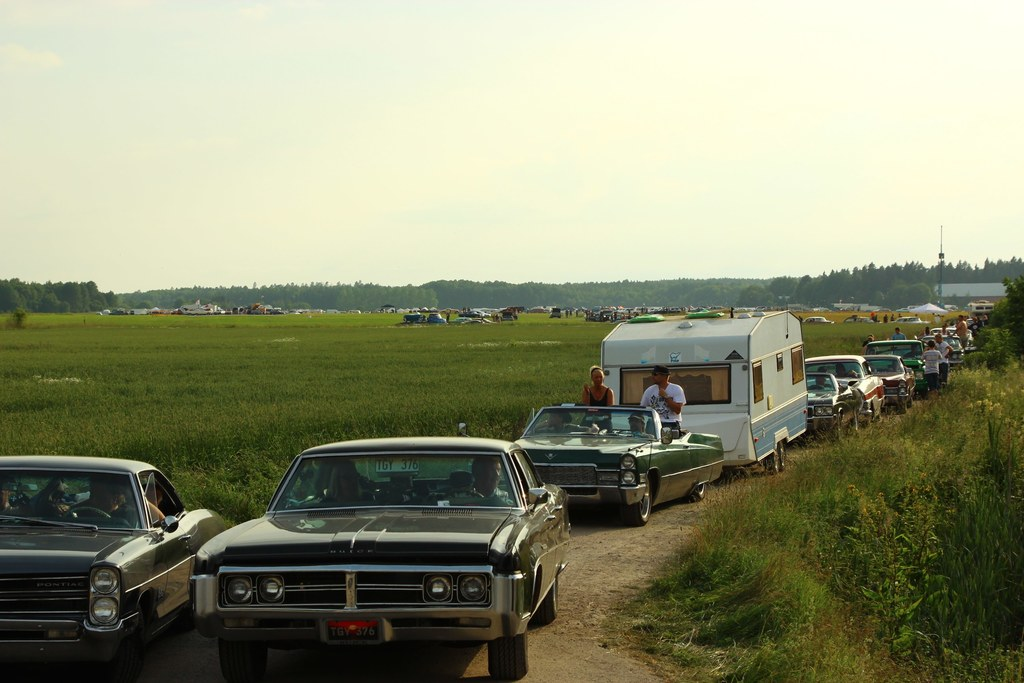Car: (0, 294, 960, 680)
